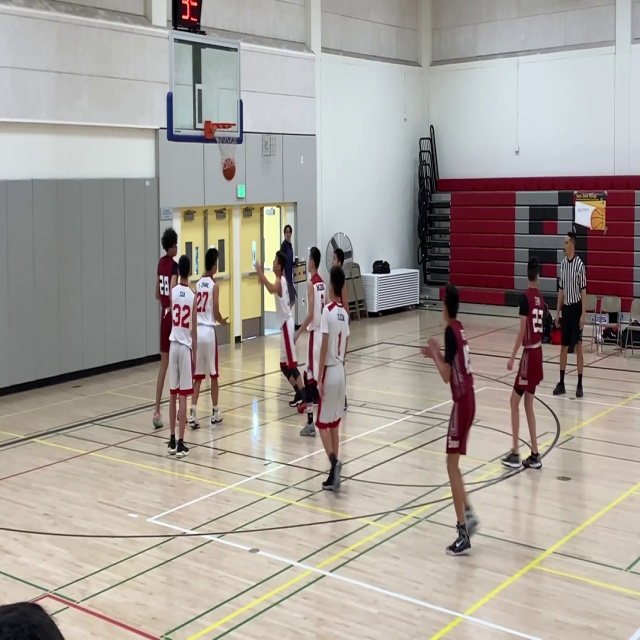Basketball: (222, 157, 235, 180)
